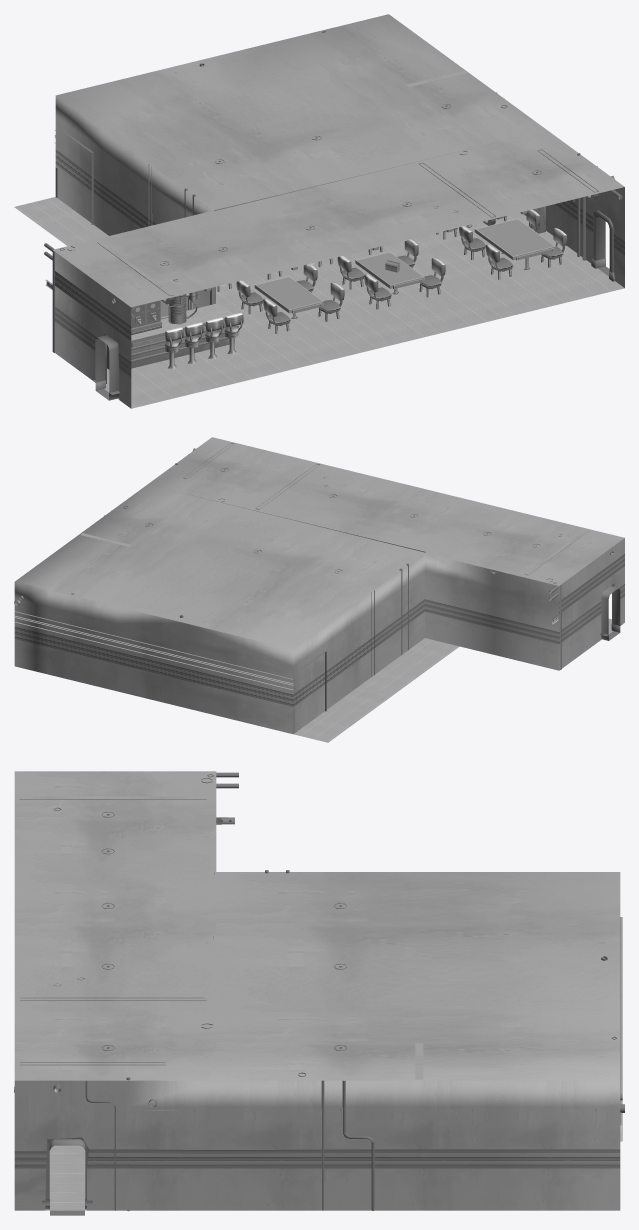
File: MSH_cafeteria_l3_R3_BrotherOfSteel_optimized.fbx
3 views of the same model, one above another, from view 1: azimuth 30°, elevation 25°; view 2: azimuth 150°, elevation 25°; view 3: azimuth 270°, elevation 25° (orthographic). The views are drawn at different scales.
Parts seen in each view (by area): view 1: lightmap0; view 2: lightmap0; view 3: lightmap0.
Part boxes in pixels (<box>): lightmap0: <box>14,14,624,408</box>; lightmap0: <box>14,437,624,742</box>; lightmap0: <box>14,771,624,1215</box>.
Size of the model in its own units: 30.91 by 6.06 by 24.98.
Materials: 8 (7 with a texture image).
